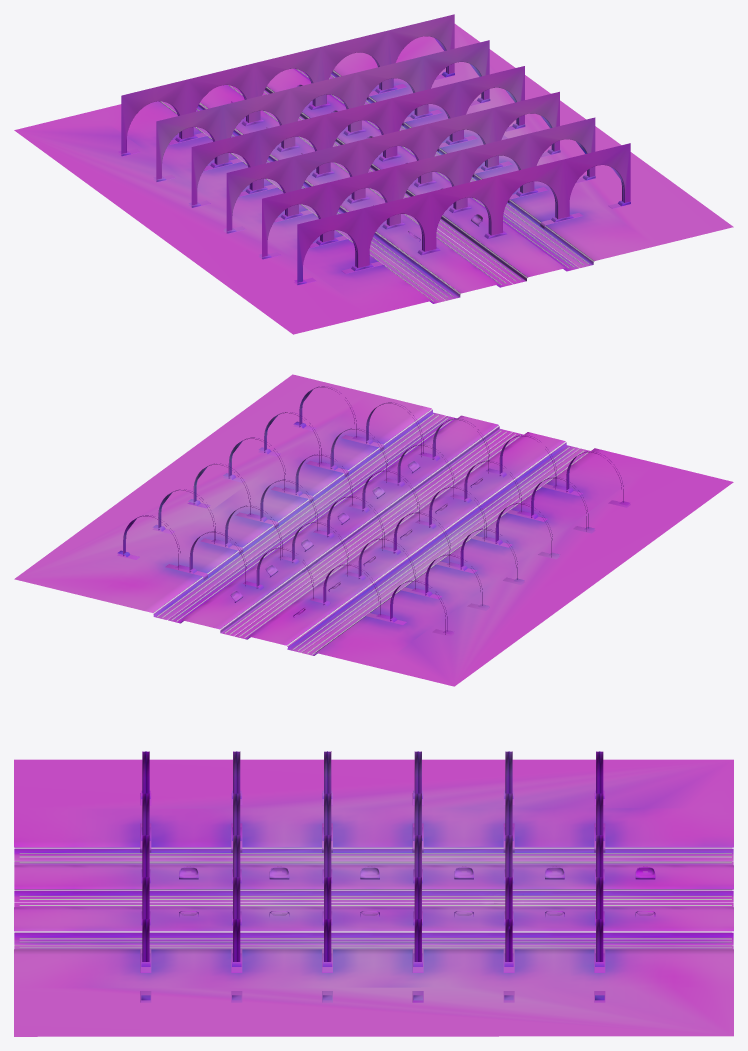
Rendered from talent_crossroads.glb.
3 renders of one model, top to bottom at view 1: azimuth 30°, elevation 25°; view 2: azimuth 150°, elevation 25°; view 3: azimuth 270°, elevation 25°, orthographic. The views are drawn at different scales.
Parts seen in each view (by area): view 1: arches, rails, emissive; view 2: arches, rails, emissive; view 3: arches, rails, emissive.
Boxes of the visible parts, x1,y1,x2,y2 form: arches: (14, 14, 733, 334); rails: (160, 69, 588, 301); emissive: (199, 70, 594, 300); arches: (14, 374, 733, 686); rails: (157, 414, 588, 654); emissive: (153, 409, 579, 652); arches: (14, 751, 733, 1036); rails: (19, 853, 731, 948); emissive: (14, 847, 731, 945).
Bounding box in the file's own units: 73.64 × 10.31 × 80.8.
